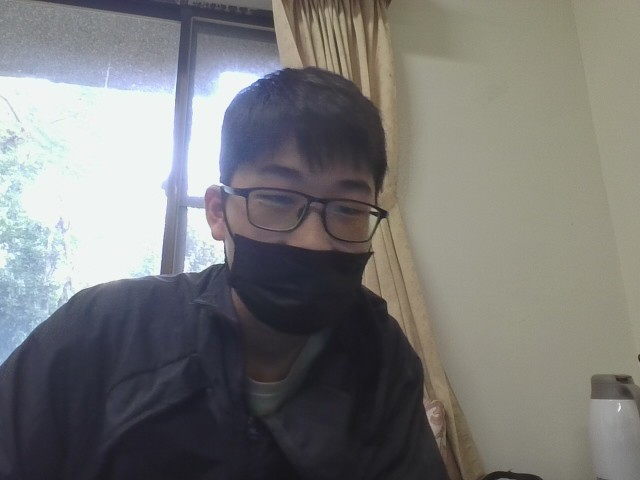No_Helmet: (208, 61, 391, 259)
person: (0, 48, 525, 480)
